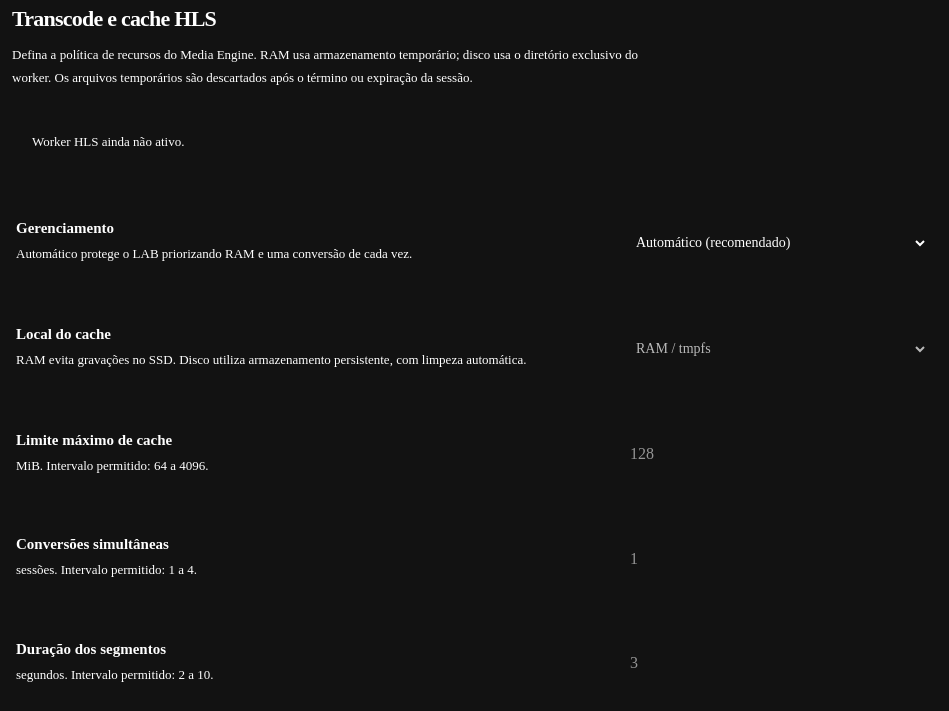
Scenario: loads defaults, allows manual disk selection and persists bounded settings
Expected: the dropdown named "Local do cache de vídeo" in the row of "Local do cache" is disabled, [618,326,928,372]
Select "Personalizado" in the dropdown named "Gerenciamento de cache" in the row of "Gerenciamento": (773, 242) [618,220,928,266]
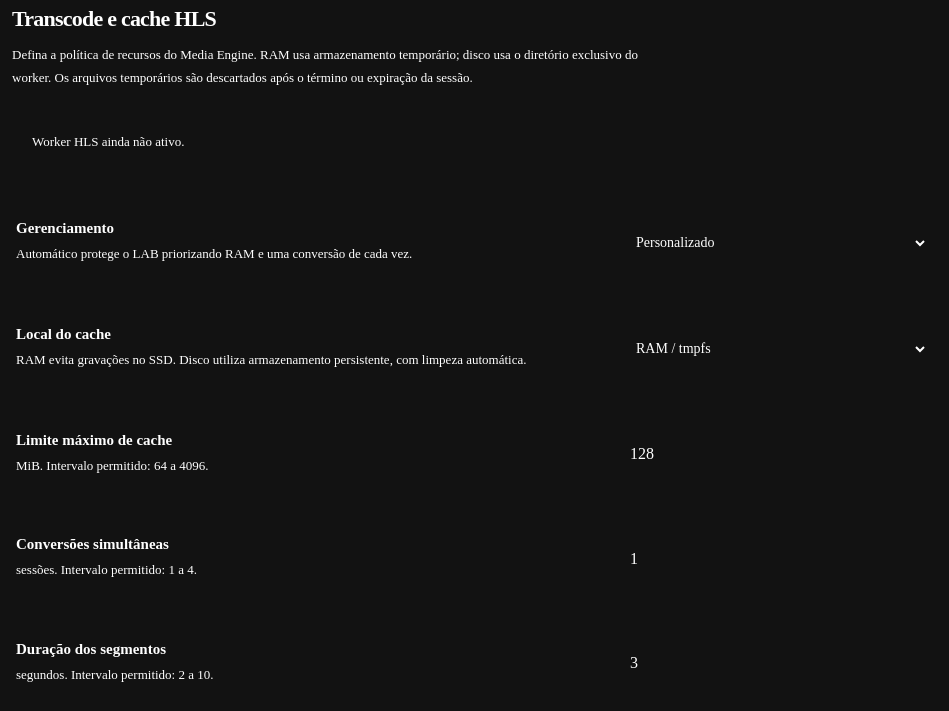
Select "Disco" in the dropdown named "Local do cache de vídeo" in the row of "Local do cache": (773, 348) [618,326,928,372]
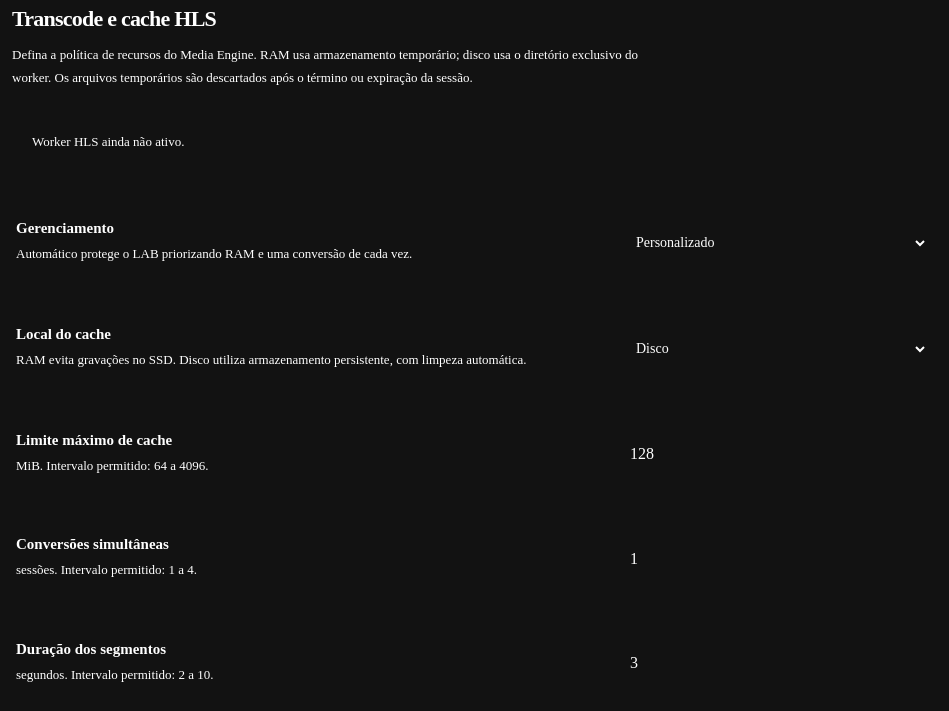
Replace the text in the number field named "Limite máximo de cache" in the row of "4096" with "512": (672, 454) [618,432,726,476]
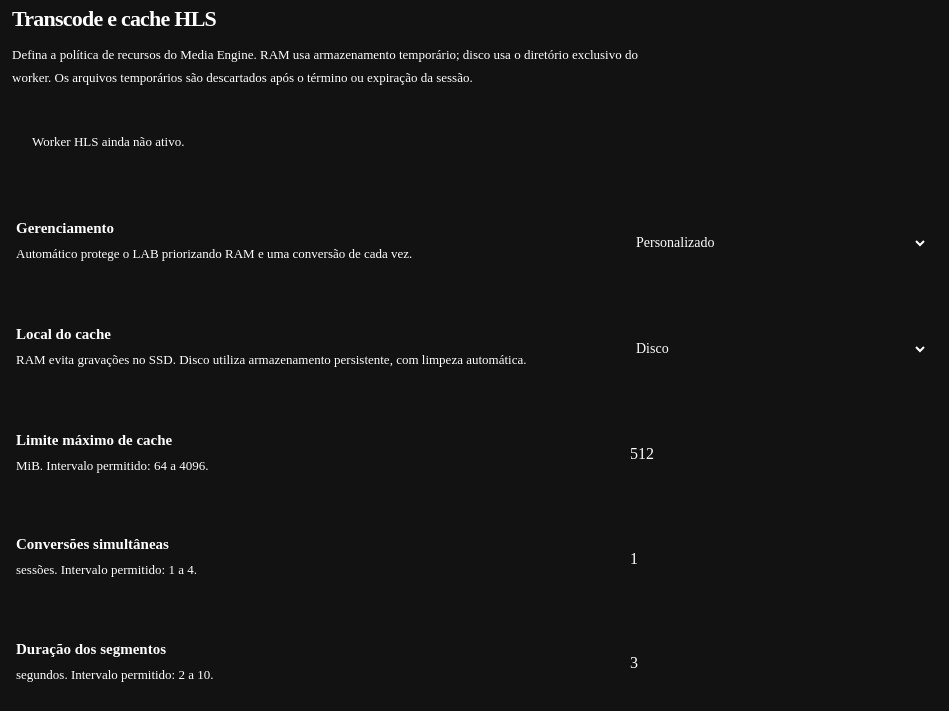
Replace the text in the number field named "Conversões simultâneas" in the row of "Conversões simultâneas" with "2": (672, 559) [618,537,726,581]
(page scrolled)
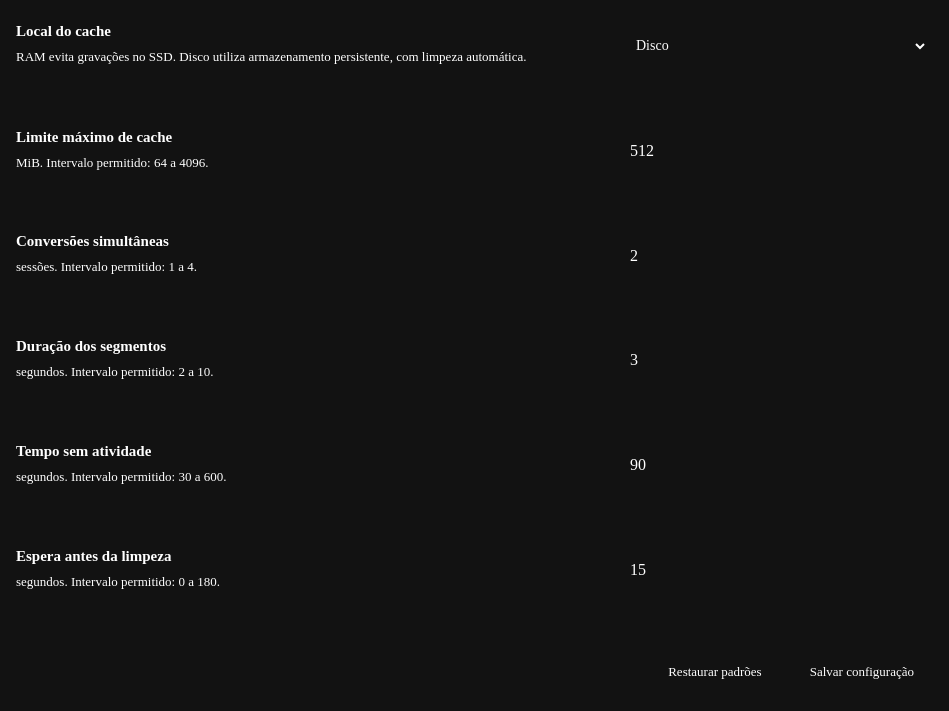
Click the button "Salvar configuração": (862, 672) [792,650,932,694]
(page scrolled)
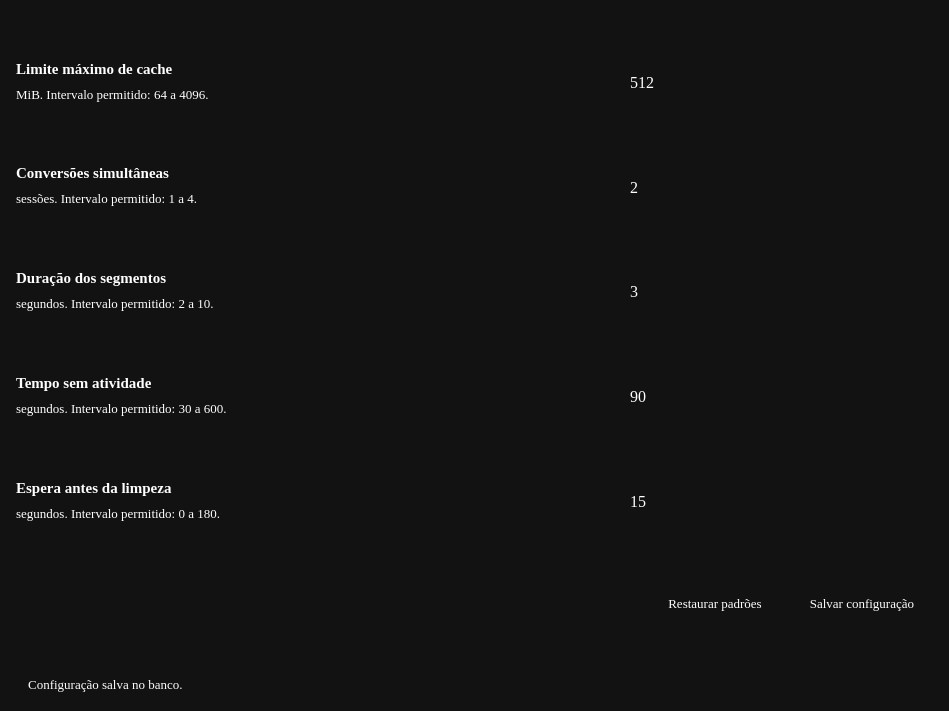
Result: the text "Configuração salva no banco." is shown at [28,678,182,692]
